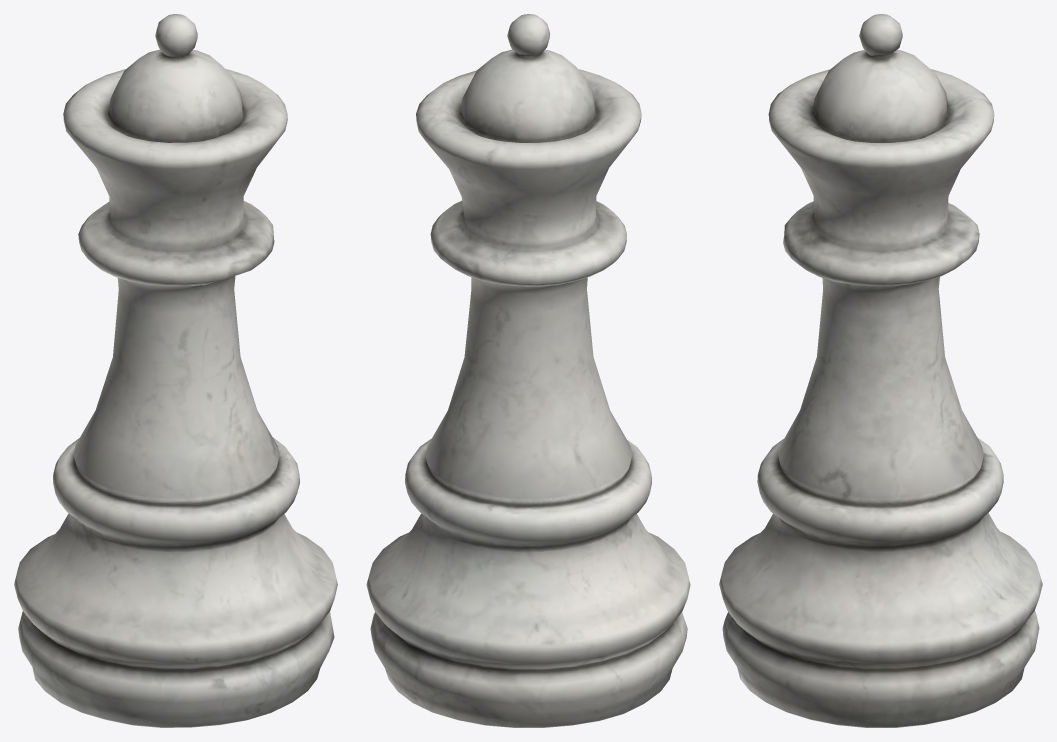
The picture shows the model from 3 angles, left to right: view 1: azimuth 30°, elevation 25°; view 2: azimuth 150°, elevation 25°; view 3: azimuth 270°, elevation 25°; orthographic projection.
Visible parts, largest first — view 1: piece_queen_white; view 2: piece_queen_white; view 3: piece_queen_white.
Boxes of the visible parts, x1,y1,x2,y2 form: piece_queen_white: (14, 14, 337, 727); piece_queen_white: (366, 14, 690, 727); piece_queen_white: (719, 14, 1042, 727).
Bounding box in the file's own units: 0.0406 × 0.0907 × 0.0408.
Materials: 1 (1 with a texture image).
